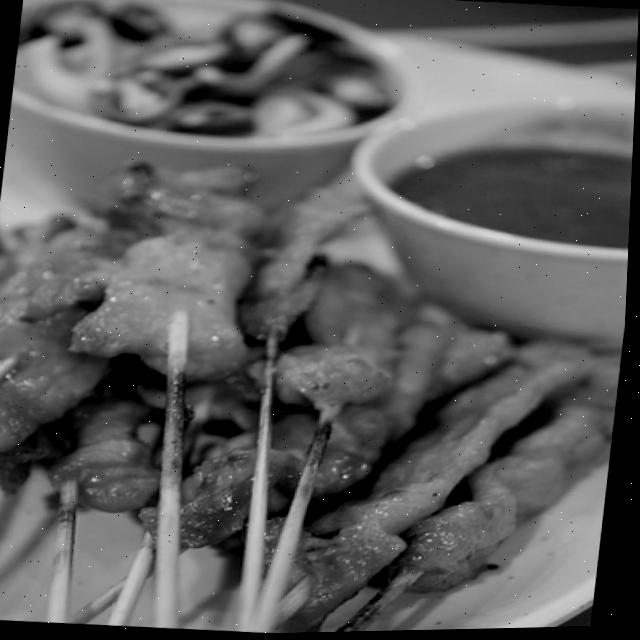牛肉菜式: (0, 93, 608, 640)
